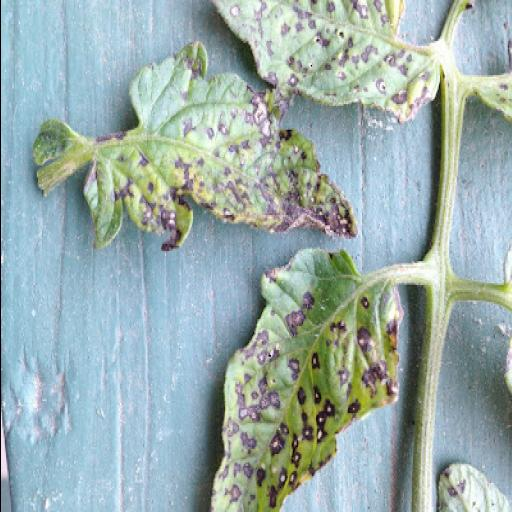disease_tomato: (82, 38, 360, 256), (202, 244, 400, 512), (188, 2, 452, 128)
